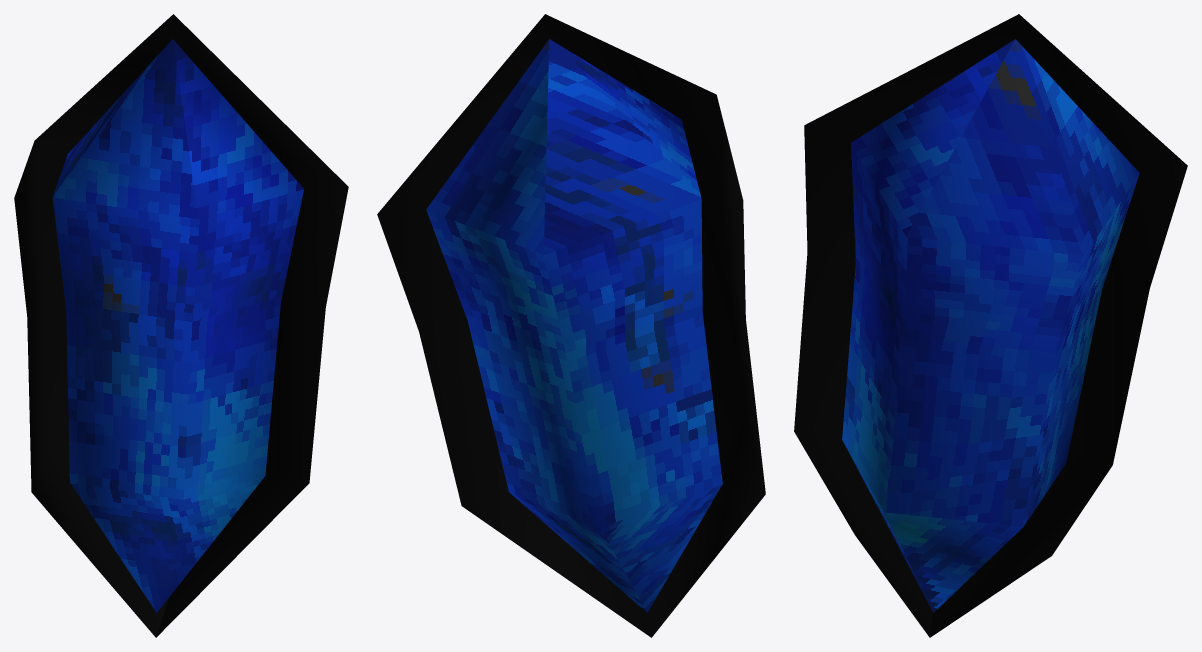
Rendered from OUBLIETTECRYSTAL1_PU.fbx.
3 views of the same model, side by side, from view 1: azimuth 30°, elevation 25°; view 2: azimuth 150°, elevation 25°; view 3: azimuth 270°, elevation 25° (orthographic). The views are drawn at different scales.
Visible parts, largest first — view 1: OUBLIETTECRYSTAL1_PU; view 2: OUBLIETTECRYSTAL1_PU; view 3: OUBLIETTECRYSTAL1_PU.
Part boxes in pixels (left/top/right/bottom): OUBLIETTECRYSTAL1_PU: left=14, top=14, right=348, bottom=637; OUBLIETTECRYSTAL1_PU: left=377, top=14, right=765, bottom=637; OUBLIETTECRYSTAL1_PU: left=794, top=14, right=1187, bottom=637.
Size of the model in its own units: 3016 by 5905 by 3217.
1 material, 1 textured.
